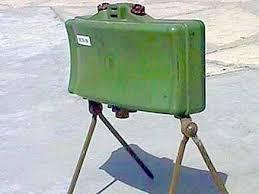MON 50: (65, 14, 205, 118)
